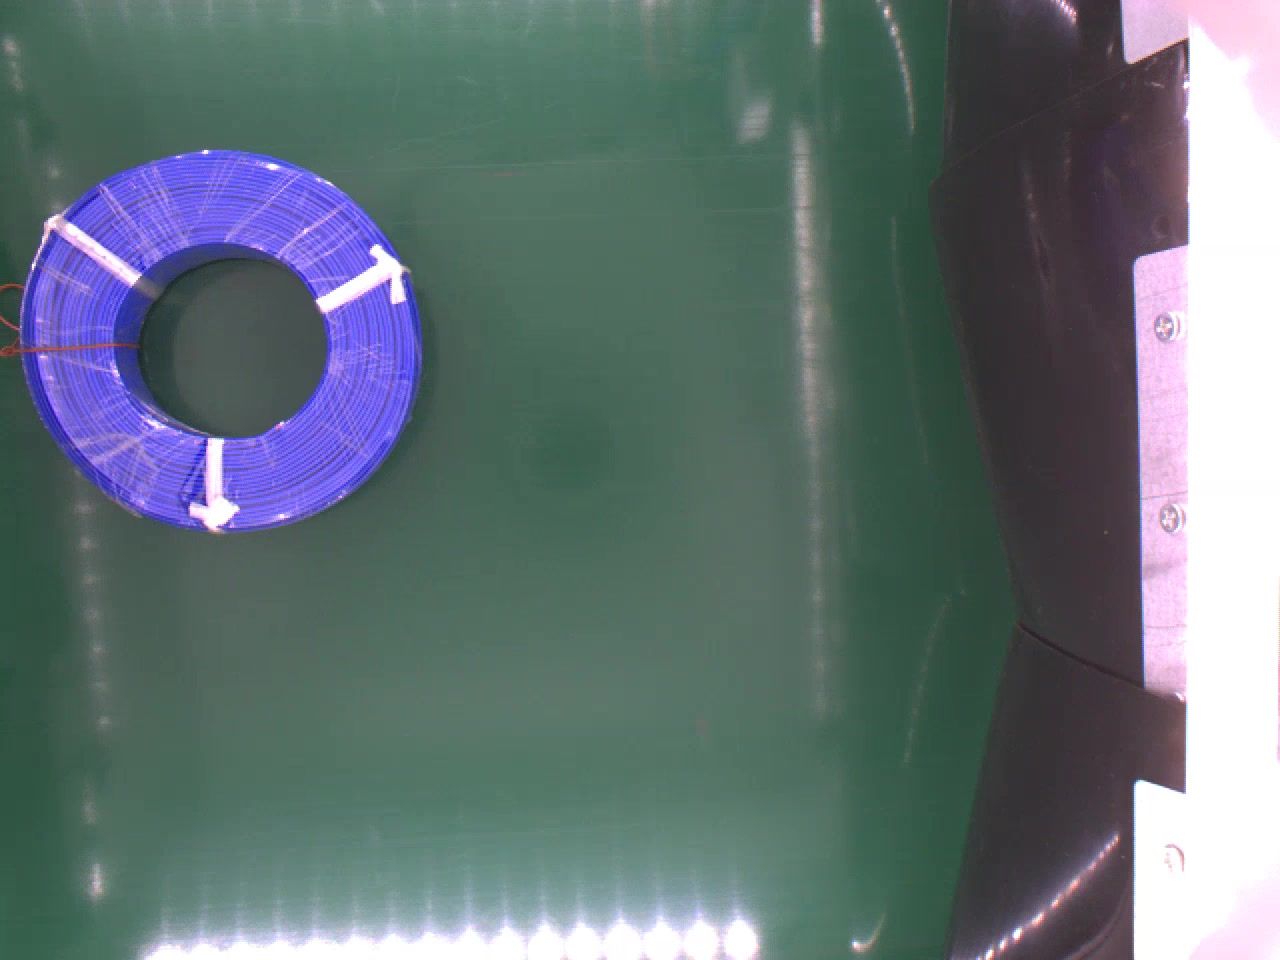blue: (19, 150, 415, 531)
